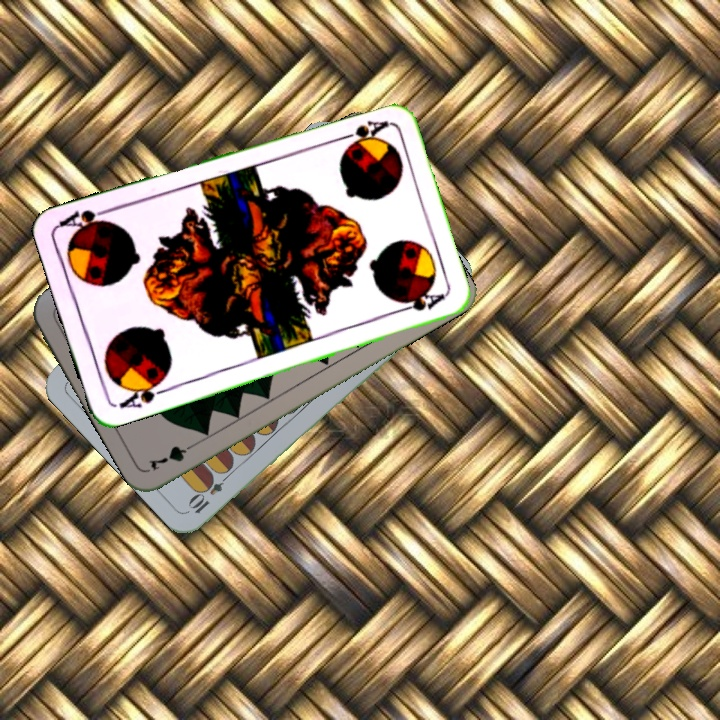E10: (186, 467, 234, 517)
G7: (145, 437, 201, 474)
SA: (115, 374, 171, 411), (333, 116, 391, 150)
